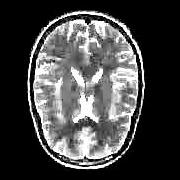Normal_Brain: (9, 1, 157, 180)
